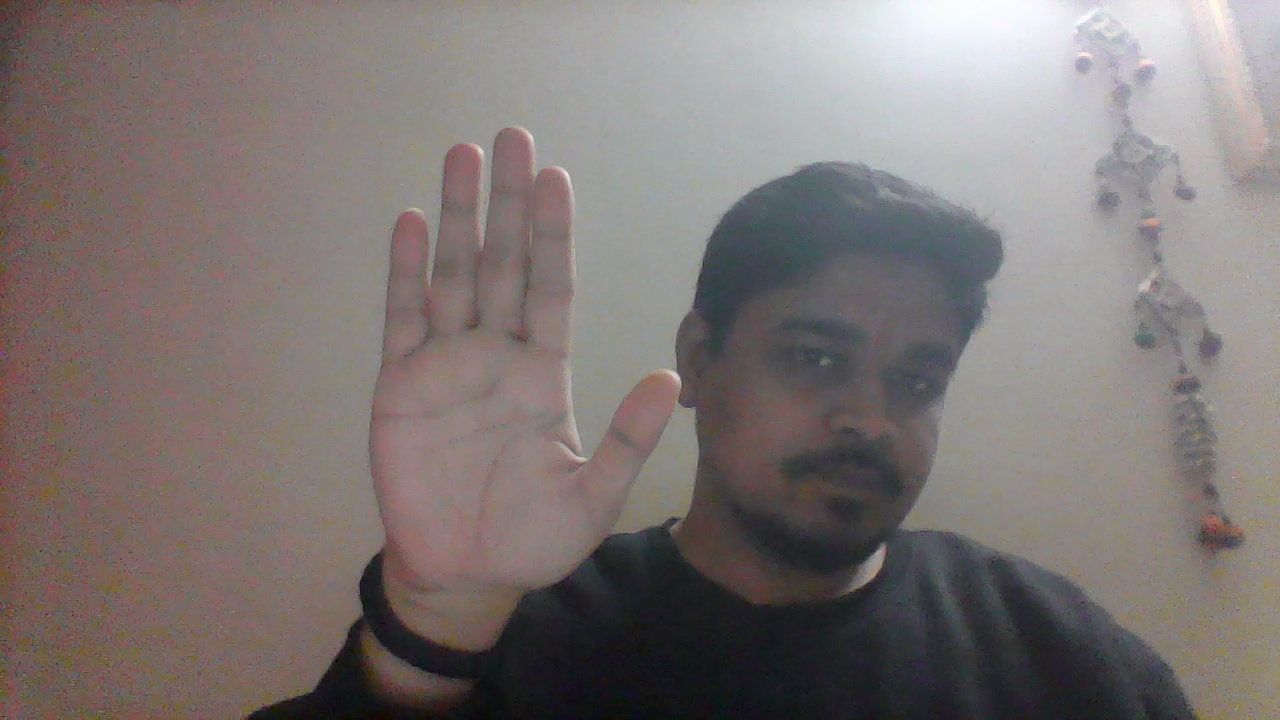Hello: (368, 114, 682, 604)
